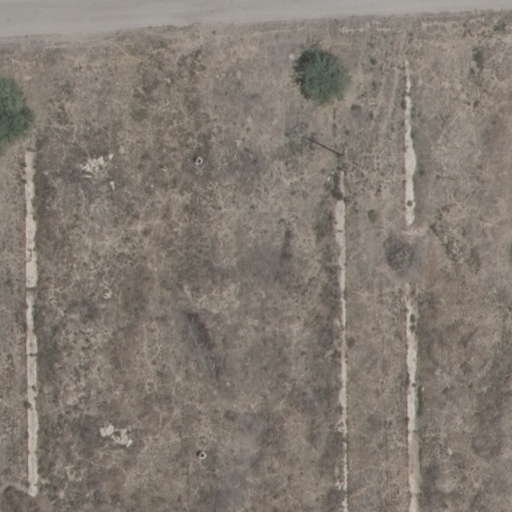DT: (334, 142, 355, 171)
